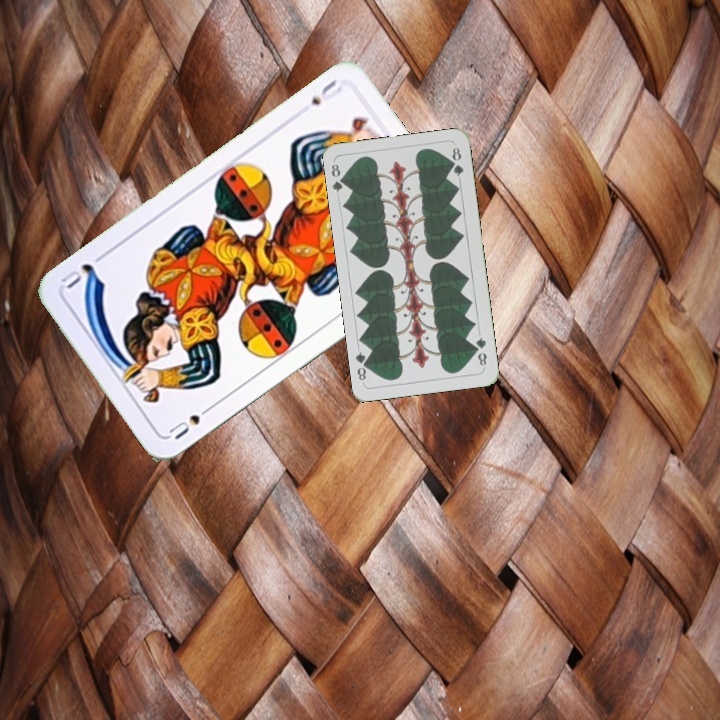G8: (327, 160, 349, 195), (471, 333, 489, 368)
SU: (165, 400, 217, 443), (306, 75, 345, 108)
